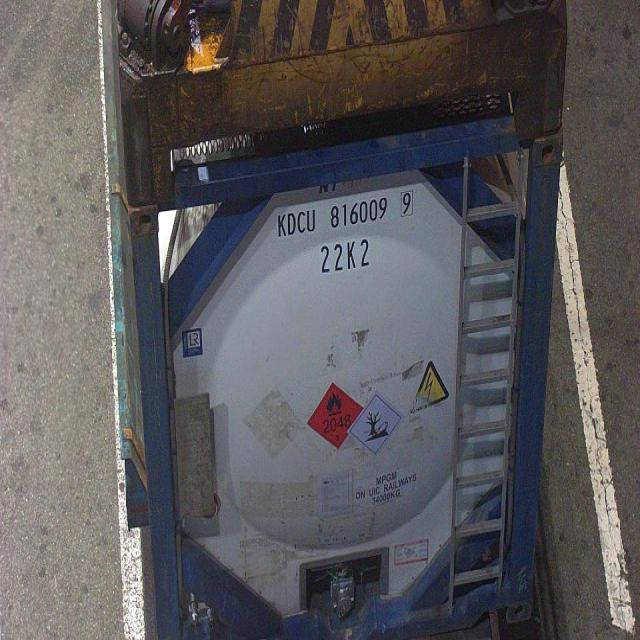ISO: (318, 241, 372, 274)
container_number: (277, 184, 415, 233)
